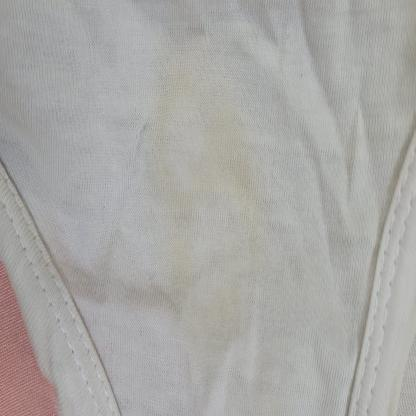spot: (136, 0, 270, 404), (160, 79, 256, 351)
